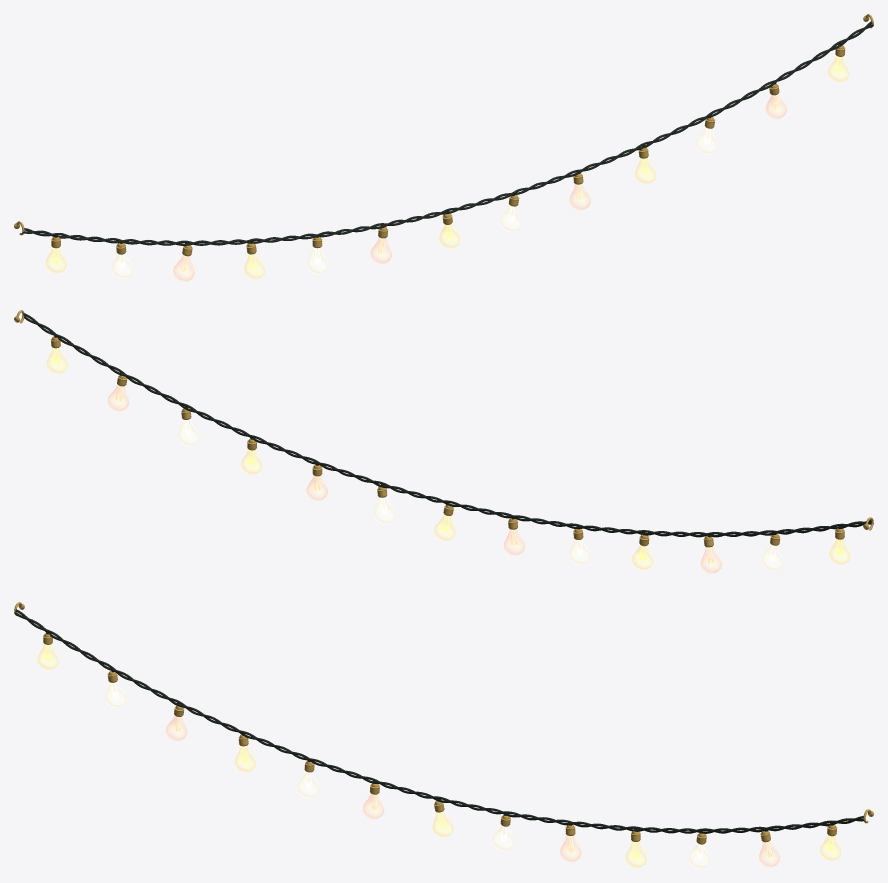
Rendered from garland.glb.
The picture shows the model from 3 angles, top to bottom: view 1: azimuth 30°, elevation 25°; view 2: azimuth 150°, elevation 25°; view 3: azimuth 330°, elevation 25°; orthographic projection.
Parts seen in each view (by area): view 1: garland_line, glass_all_0, glass_all_1, glass_all_2; view 2: garland_line, glass_all_0, glass_all_1, glass_all_2; view 3: garland_line, glass_all_0, glass_all_2, glass_all_1.
Part boxes in pixels (left/top/right/bottom): garland_line: left=14, top=14, right=873, bottom=256; glass_all_0: left=45, top=56, right=849, bottom=279; glass_all_1: left=111, top=127, right=717, bottom=278; glass_all_2: left=173, top=94, right=786, bottom=281; garland_line: left=14, top=310, right=873, bottom=547; glass_all_0: left=46, top=347, right=850, bottom=570; glass_all_1: left=178, top=418, right=782, bottom=570; glass_all_2: left=107, top=385, right=722, bottom=573; garland_line: left=14, top=602, right=873, bottom=844; glass_all_0: left=37, top=644, right=841, bottom=868; glass_all_2: left=165, top=715, right=780, bottom=867; glass_all_1: left=105, top=681, right=709, bottom=868.
Size of the model in its own units: 4.87 by 0.6994 by 0.1268.
